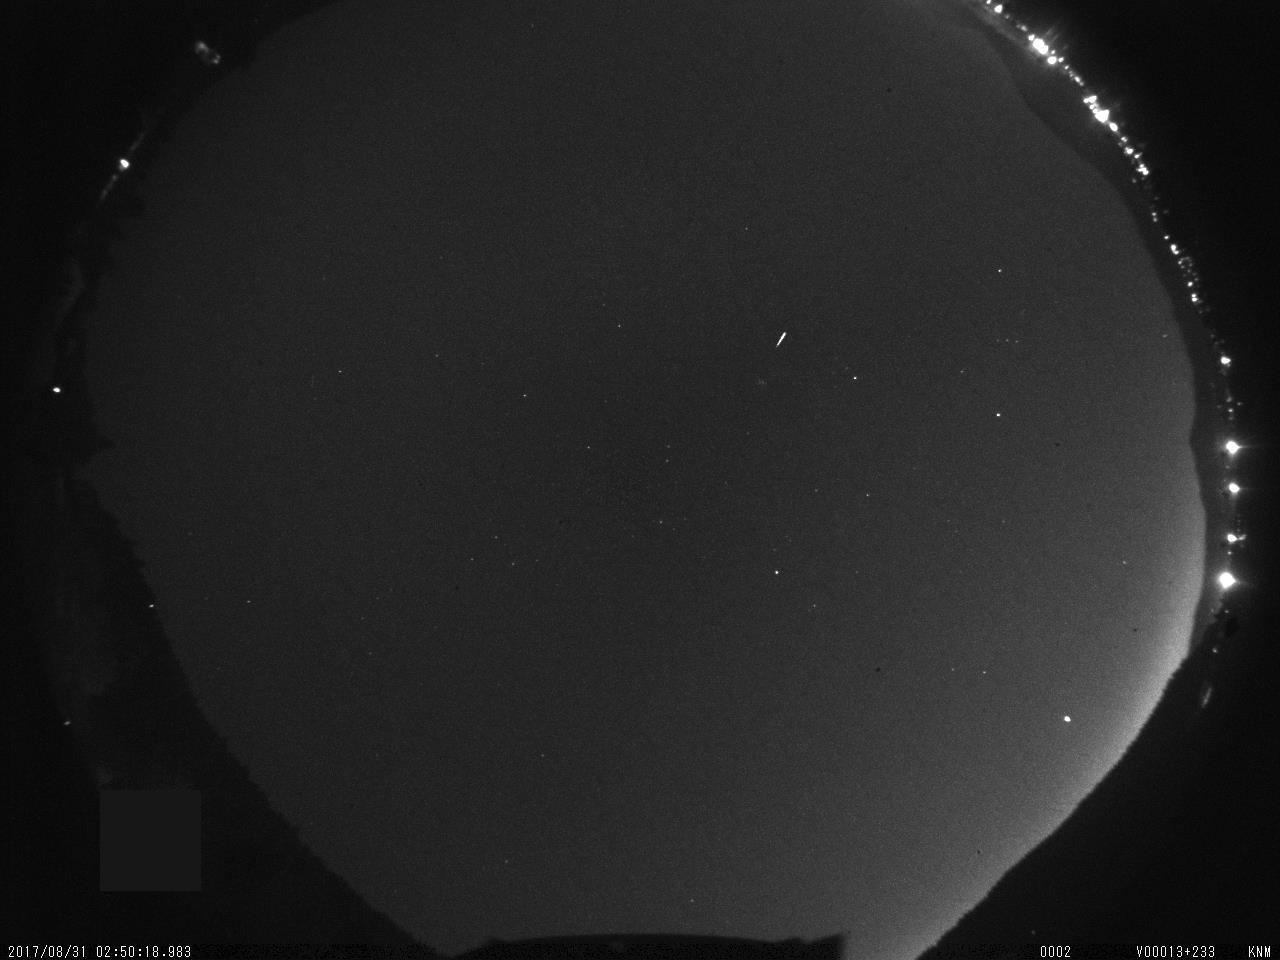Meteor: (771, 324, 792, 356)
